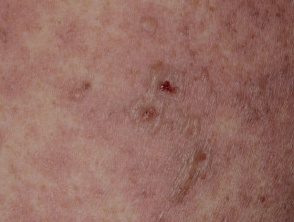SJS-TEN: (102, 41, 251, 222)
